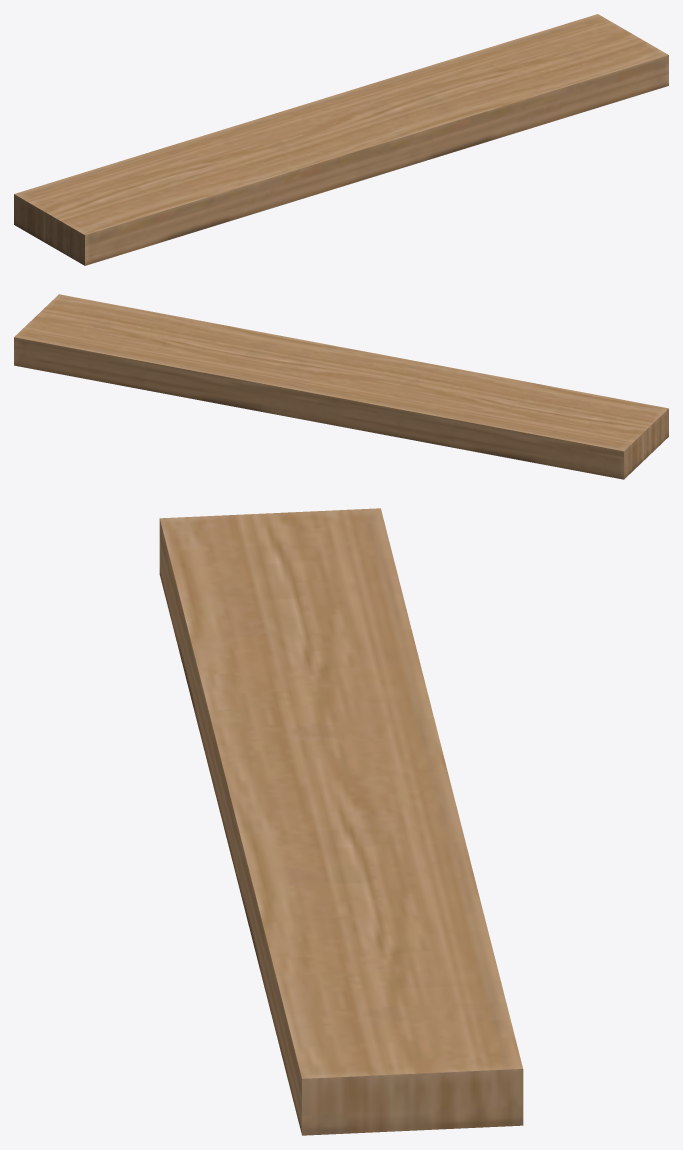
File: Map_Furniture_103.fbx
3 views of the same model, one above another, from view 1: azimuth 30°, elevation 25°; view 2: azimuth 150°, elevation 25°; view 3: azimuth 270°, elevation 25° (orthographic). The views are drawn at different scales.
Parts seen in each view (by area): view 1: Map_Furniture_103; view 2: Map_Furniture_103; view 3: Map_Furniture_103.
Part boxes in pixels (<box>): Map_Furniture_103: <box>14,14,668,265</box>; Map_Furniture_103: <box>14,294,668,479</box>; Map_Furniture_103: <box>159,508,523,1135</box>.
Bounding box in the file's own units: 2.43 × 0.1126 × 0.6537.
